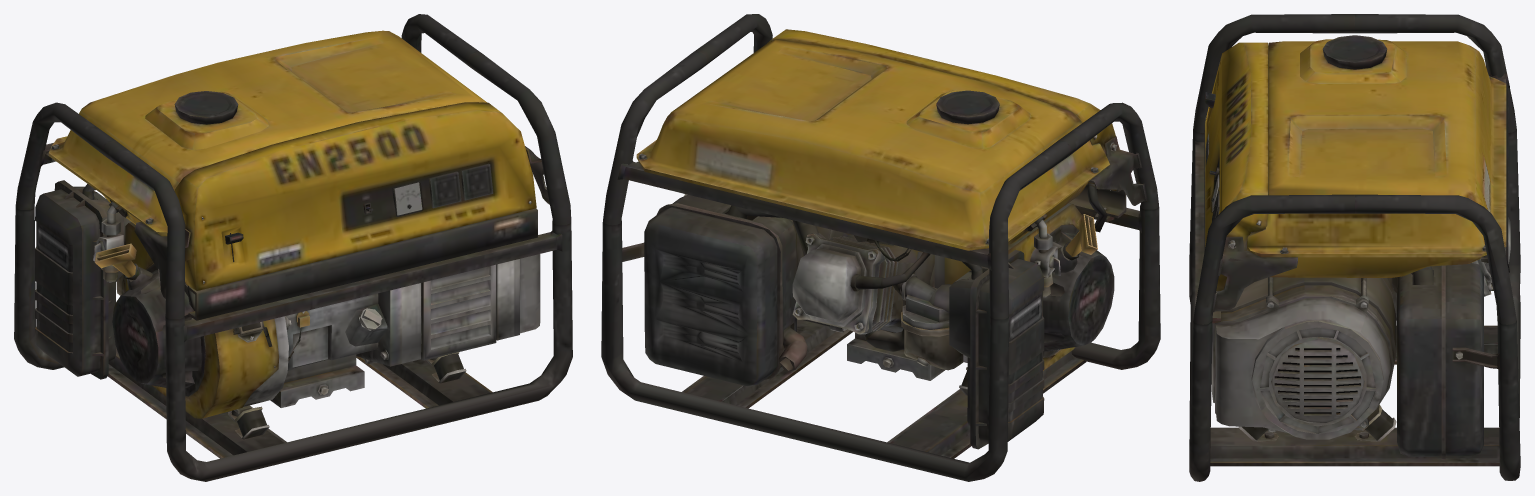
File: portable_generator.glb
The picture shows the model from 3 angles, left to right: view 1: azimuth 30°, elevation 25°; view 2: azimuth 150°, elevation 25°; view 3: azimuth 270°, elevation 25°; orthographic projection.
Visible parts, largest first — view 1: portable_generator; view 2: portable_generator; view 3: portable_generator.
Boxes of the visible parts, left/top/right/bottom form: portable_generator: left=14, top=14, right=572, bottom=481; portable_generator: left=601, top=14, right=1160, bottom=481; portable_generator: left=1189, top=14, right=1520, bottom=481.
Size of the model in its own units: 0.8169 by 0.5752 by 0.564.
2 materials, 2 textured.
